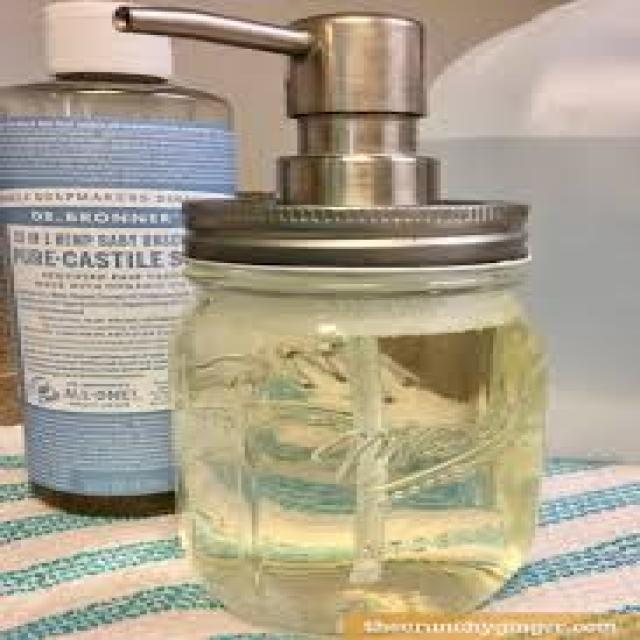liquid soap: (92, 0, 551, 628)
